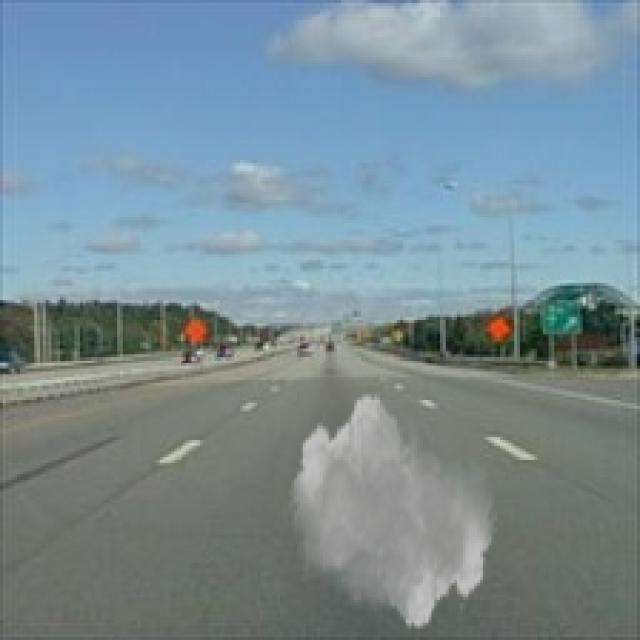Smoke: (288, 392, 498, 632)
